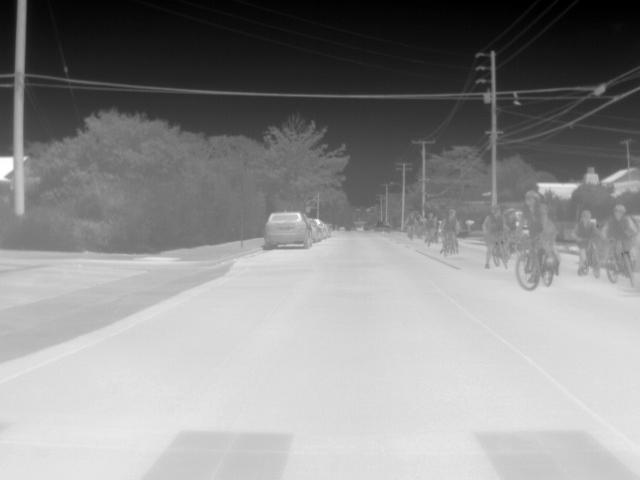car: (263, 210, 311, 252), (307, 218, 321, 241), (314, 219, 330, 239), (374, 220, 394, 234)
person: (519, 191, 556, 276), (605, 204, 638, 275), (573, 207, 604, 271), (479, 202, 510, 260), (444, 207, 462, 236), (423, 212, 439, 241), (403, 212, 421, 228)
